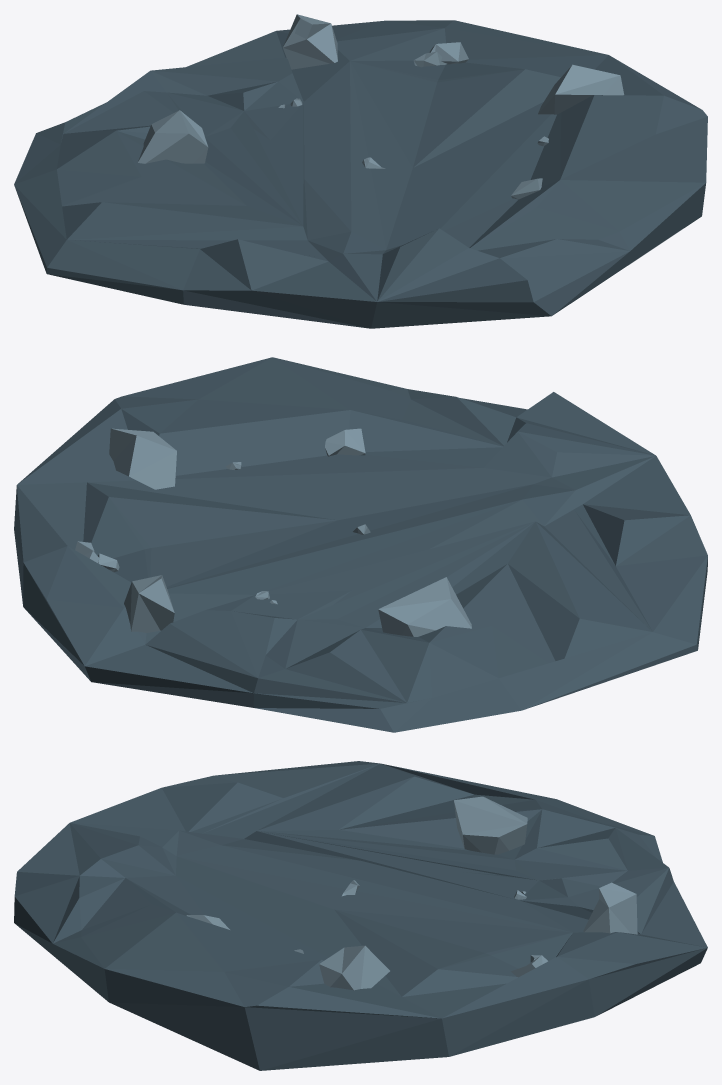
Rendered from RockyBase.glb.
3 views of the same model, one above another, from view 1: azimuth 30°, elevation 25°; view 2: azimuth 150°, elevation 25°; view 3: azimuth 270°, elevation 25° (orthographic). The views are drawn at different scales.
Visible parts, largest first — view 1: group709620111, group2008264503, group220916819, group484571616, group808257839; view 2: group709620111, group2008264503, group220916819, group484571616, group53035778; view 3: group709620111, group2008264503, group220916819, group484571616.
Part boxes in pixels (x1,y1,x2,y2): group709620111: (14,20,707,328); group2008264503: (137,110,208,163); group220916819: (538,64,624,114); group484571616: (283,14,337,69); group808257839: (429,42,468,64); group709620111: (14,357,707,732); group2008264503: (378,577,471,636); group220916819: (109,428,176,489); group484571616: (124,575,174,632); group53035778: (325,428,365,456); group709620111: (14,761,707,1070); group2008264503: (454,796,527,854); group220916819: (319,945,389,990); group484571616: (583,882,637,934).
Bounding box in the file's own units: 7.54 × 1.05 × 7.52.
